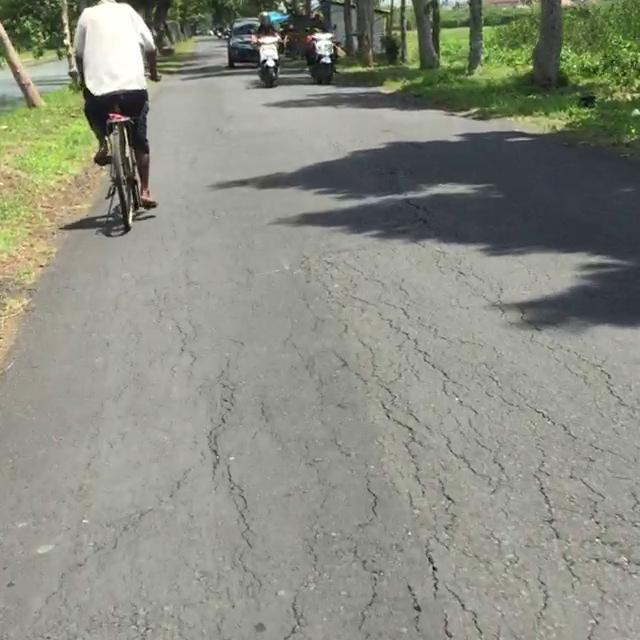retak_kulit_buaya: (265, 284, 640, 640)
